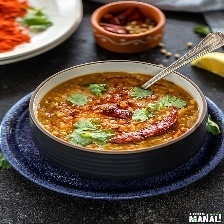dal: (37, 72, 203, 150)
